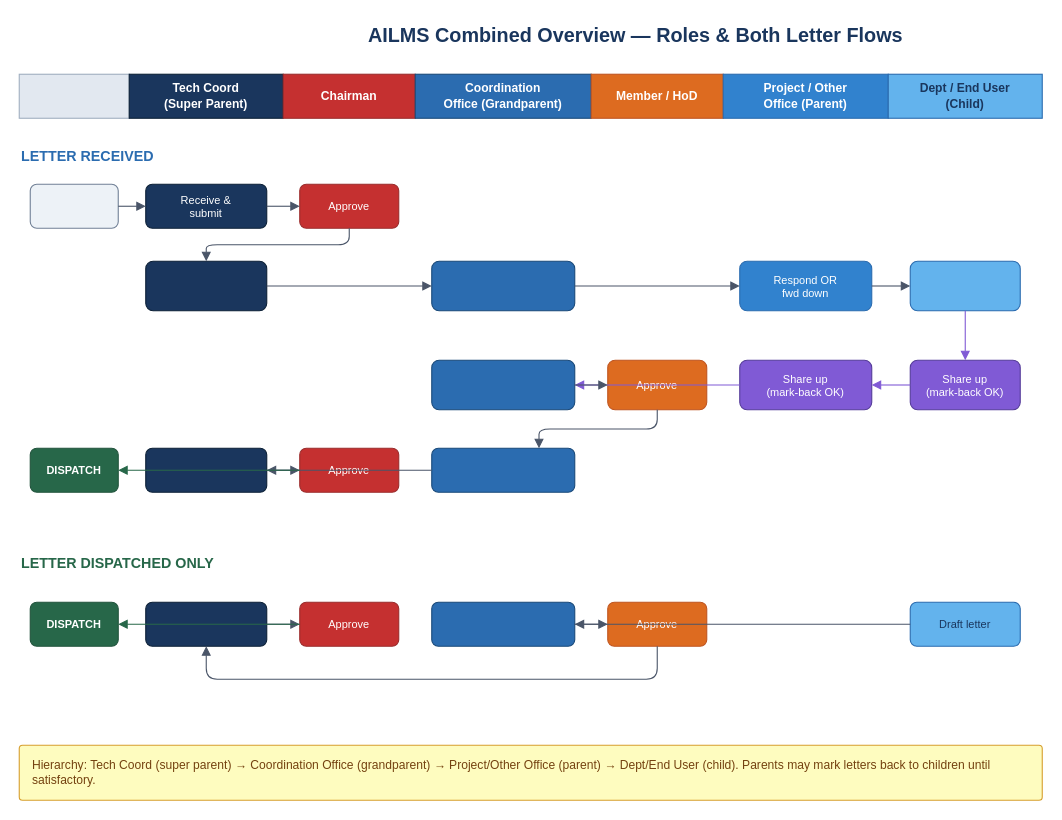
Image size: 1062x820. Some labels were removed from this diagram. Each missing label, with the box of its shape:
Evaluate type Respond OR fwd: (431, 260, 575, 311)
External: (18, 73, 129, 118)
Fwd for action (+ info copies): (145, 260, 267, 311)
Letter in: (29, 183, 118, 228)
Prepare response: (909, 260, 1020, 311)
Receive draft & process: (431, 601, 575, 646)
Receive response → HoD approval: (431, 359, 575, 410)
Submit for Chairman: (145, 447, 267, 492)
To Chairman: (145, 601, 267, 646)
To Tech Coord: (431, 447, 575, 492)
